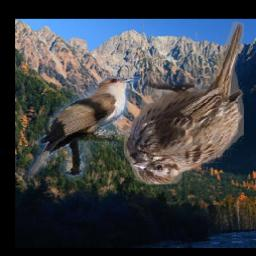Cuckoo: (23, 76, 141, 185)
Sparrow: (125, 21, 245, 184)
